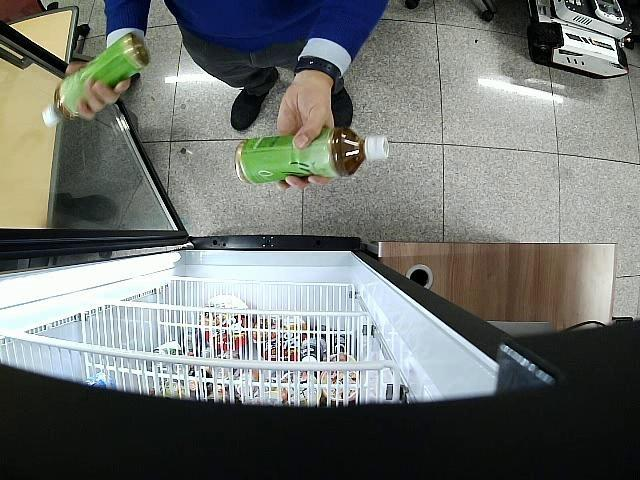19_17cha: (44, 28, 152, 128), (237, 132, 389, 178)
